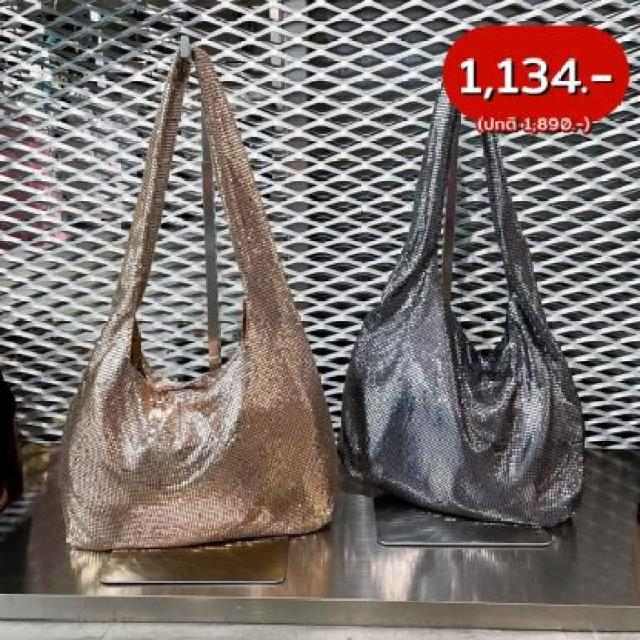Bag: (40, 14, 362, 580)
